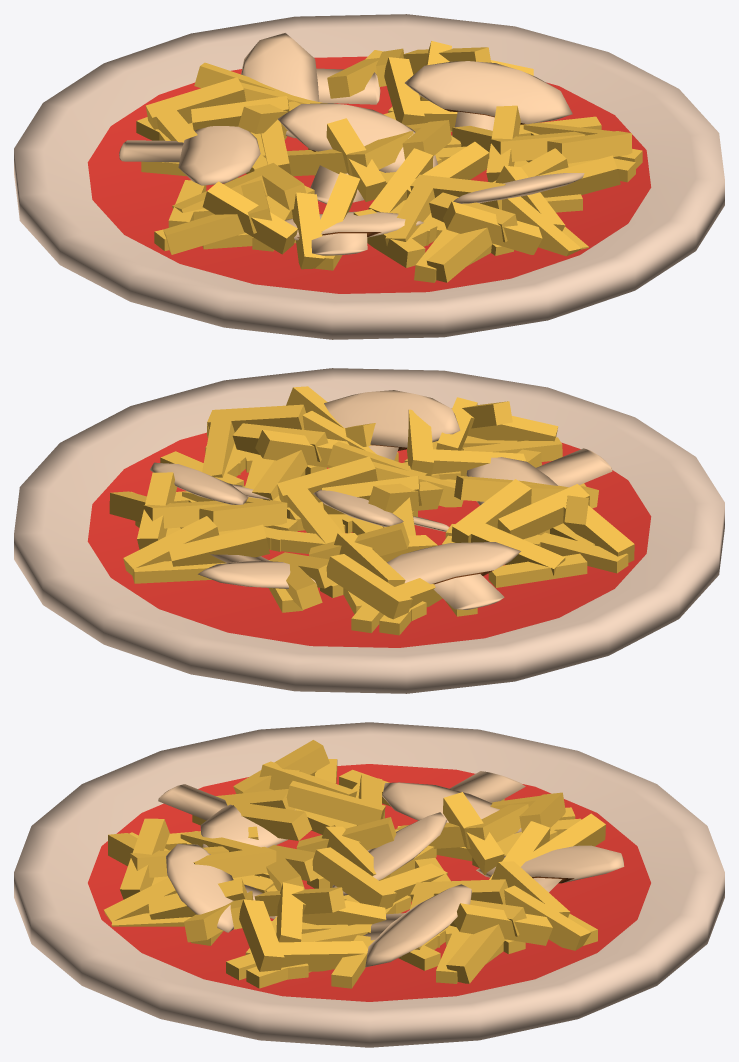
Rendered from RawPizza(Tomato Cheese and Mushrooms).glb.
3 views of the same model, one above another, from view 1: azimuth 30°, elevation 25°; view 2: azimuth 150°, elevation 25°; view 3: azimuth 270°, elevation 25° (orthographic).
Parts seen in each view (by area): view 1: Icosphere.027; view 2: Icosphere.027; view 3: Icosphere.027.
Boxes of the visible parts, x1,y1,x2,y2 form: Icosphere.027: (14,14,724,339); Icosphere.027: (14,368,724,693); Icosphere.027: (14,722,724,1047).
Bounding box in the file's own units: 0.8833 × 0.0988 × 0.8833.
